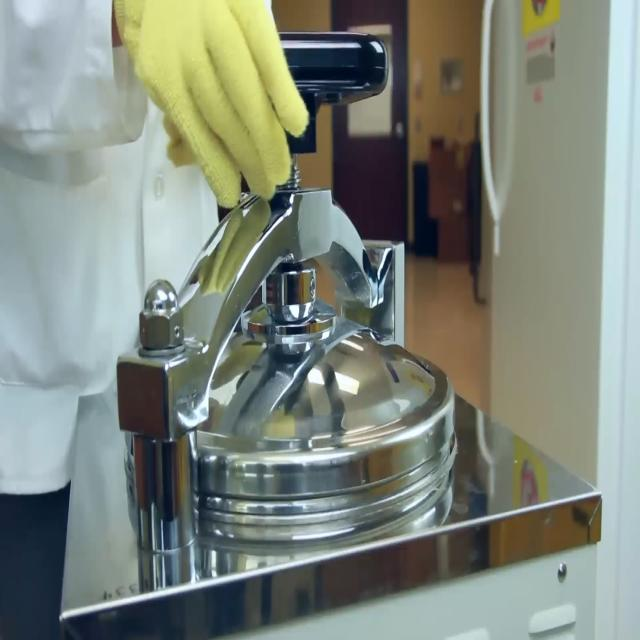labcoat: (0, 0, 225, 510)
